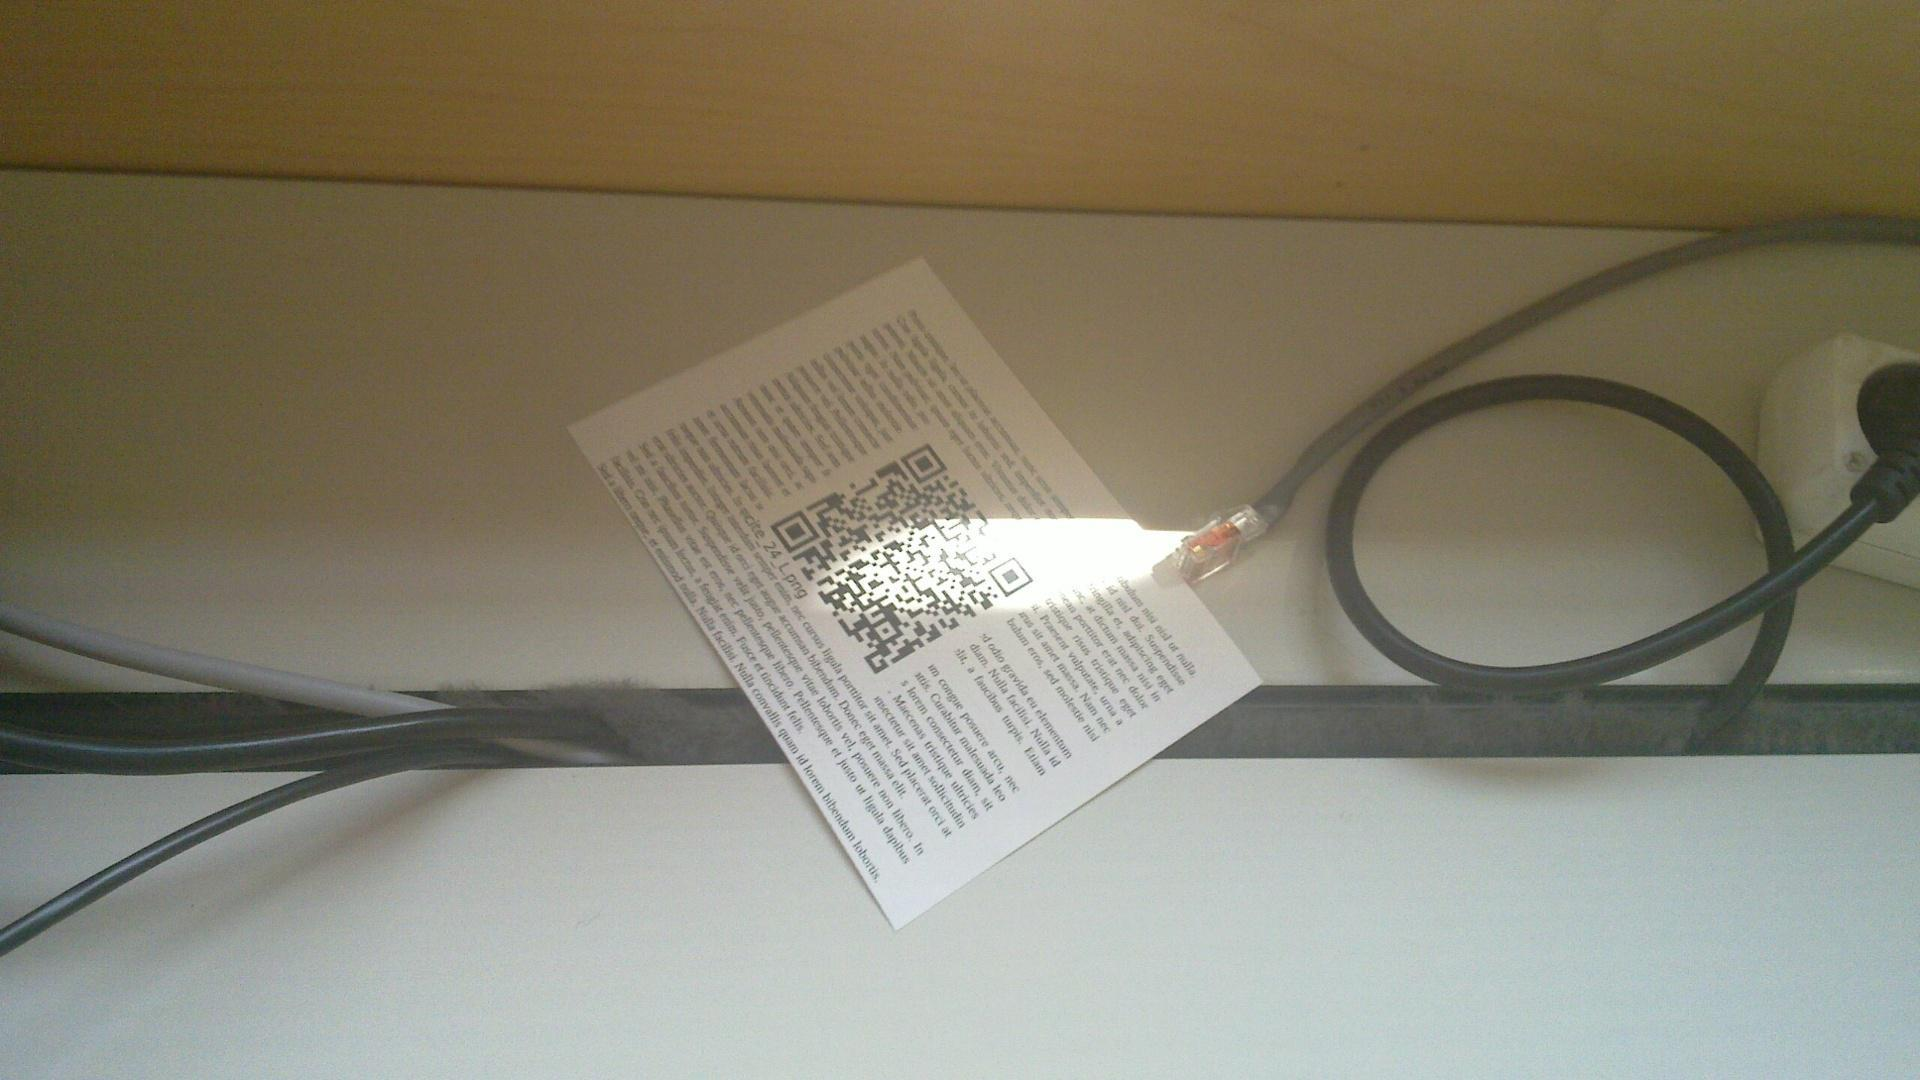Finder pattern: (989, 555, 1035, 603), (770, 510, 819, 554), (901, 440, 948, 483)
